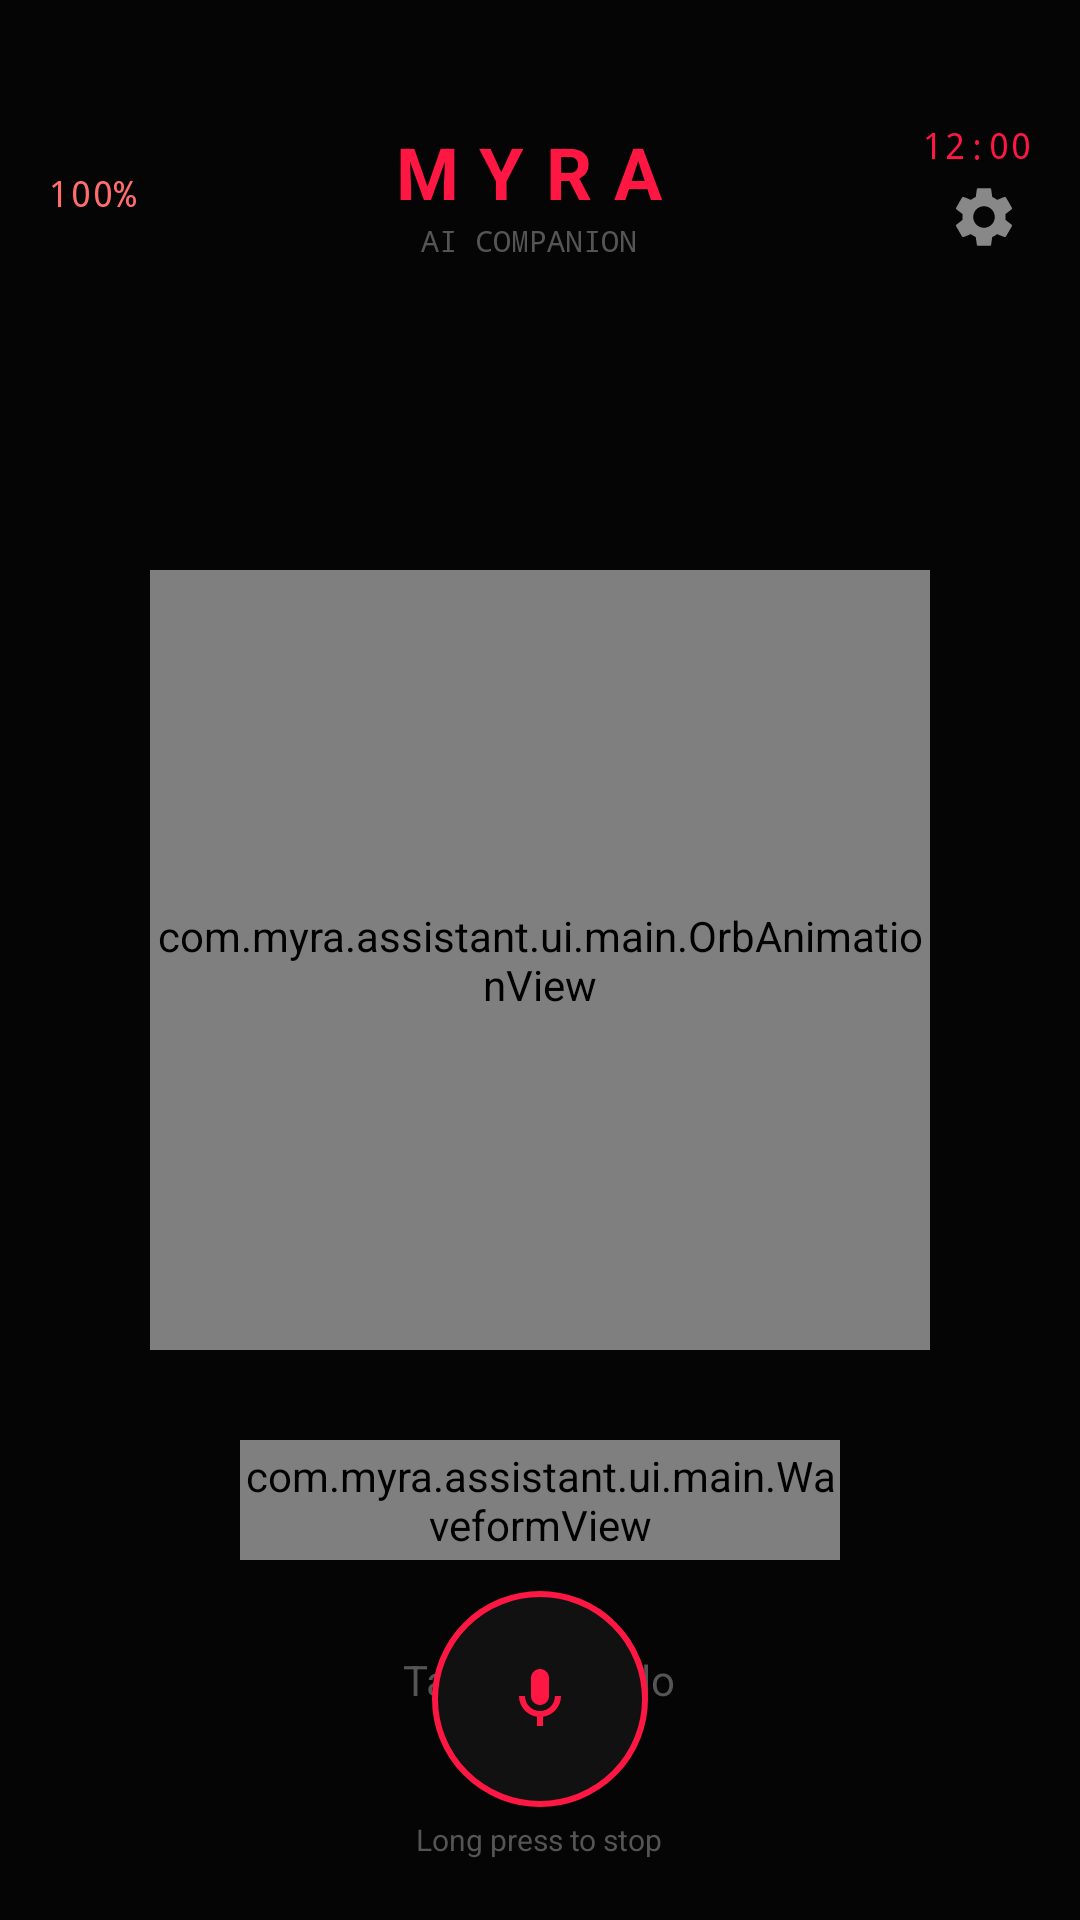

Where to tap for icons on this 1080x1920 app screen, as point (x, y):
mic on: point (540, 1699)
settings: point (984, 217)
